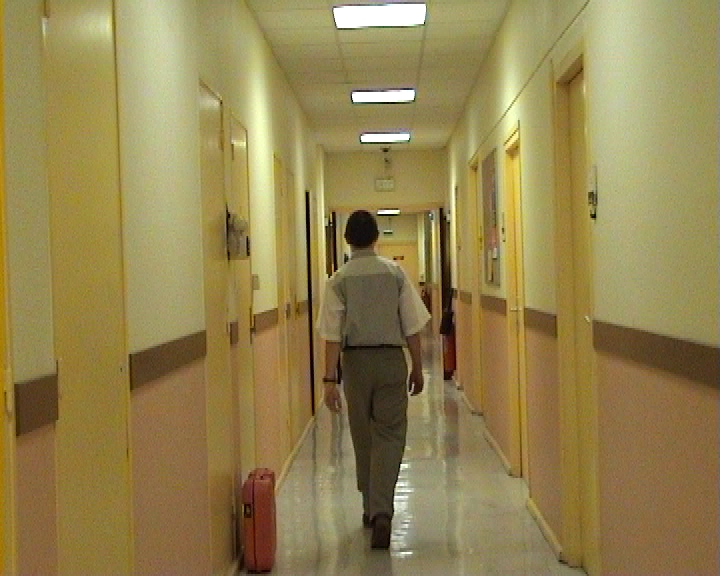leave bag unattended: (208, 438, 299, 574)
